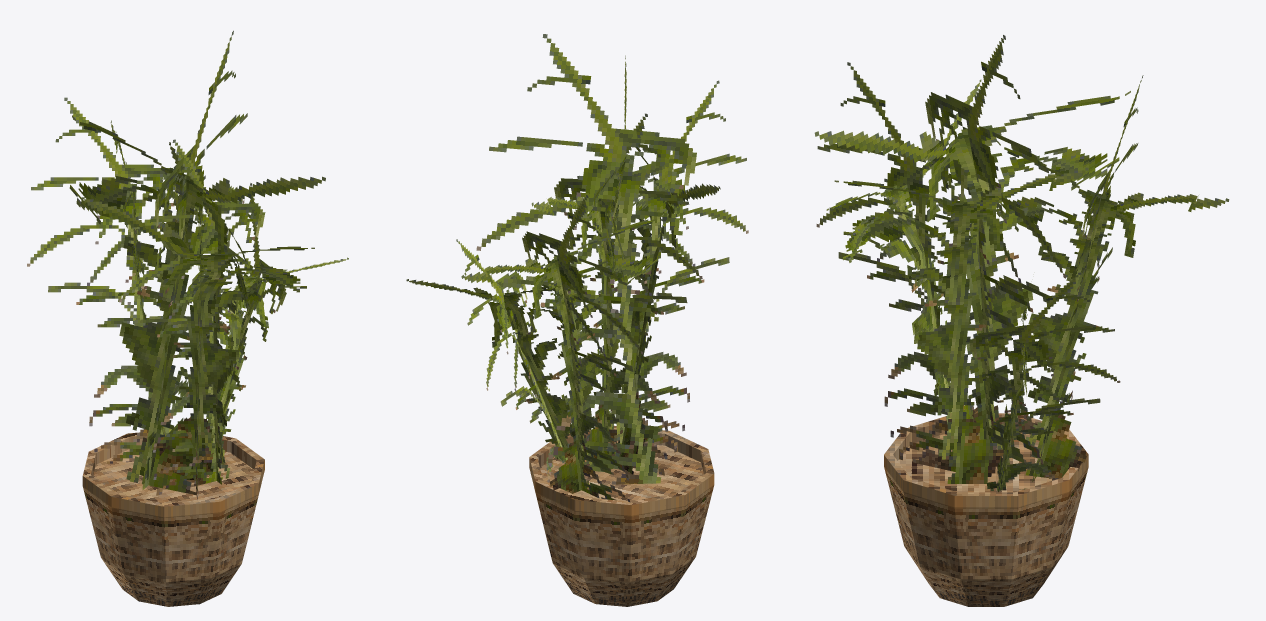
Rendered from flower.glb.
3 views of the same model, side by side, from view 1: azimuth 30°, elevation 25°; view 2: azimuth 150°, elevation 25°; view 3: azimuth 270°, elevation 25° (orthographic). The views are drawn at different scales.
Parts seen in each view (by area): view 1: Plane.002; view 2: Plane.002; view 3: Plane.002.
Part boxes in pixels (left/top/right/bottom): Plane.002: left=27, top=30, right=348, bottom=606; Plane.002: left=406, top=34, right=748, bottom=606; Plane.002: left=814, top=35, right=1229, bottom=606.
Bounding box in the file's own units: 5.2 × 8.61 × 5.97.
1 material, 1 textured.
